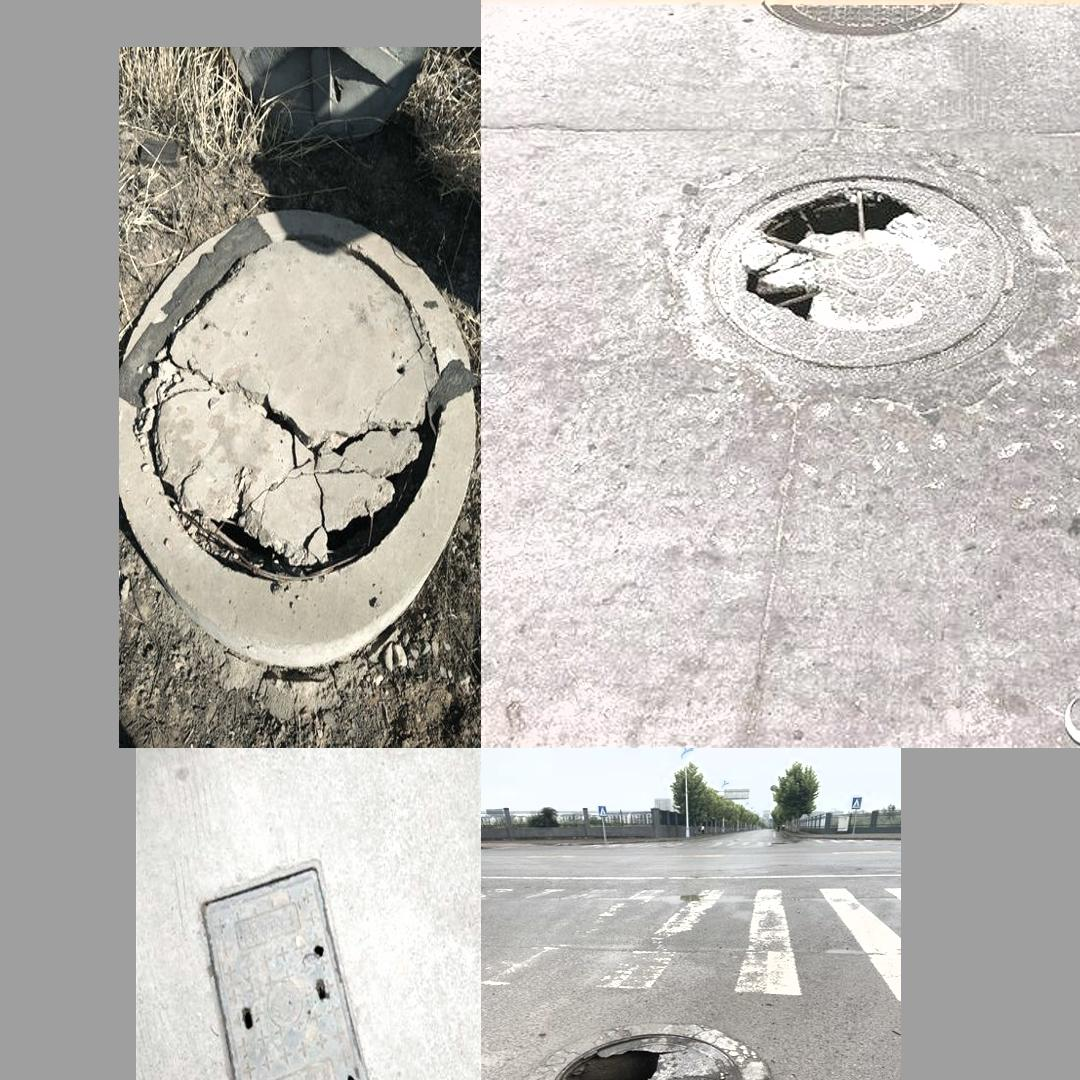broke: (129, 205, 464, 656), (642, 132, 1080, 437), (195, 858, 376, 1080), (502, 1013, 777, 1080)
